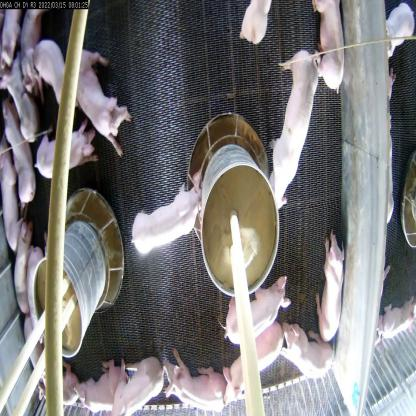Pig: (124, 167, 220, 264), (268, 46, 323, 210), (58, 38, 130, 160), (311, 220, 361, 356), (277, 312, 336, 390), (170, 354, 242, 416), (214, 319, 278, 388), (2, 38, 40, 148), (219, 269, 284, 331), (110, 354, 171, 416), (303, 0, 343, 94), (0, 90, 28, 205), (78, 360, 116, 406)
